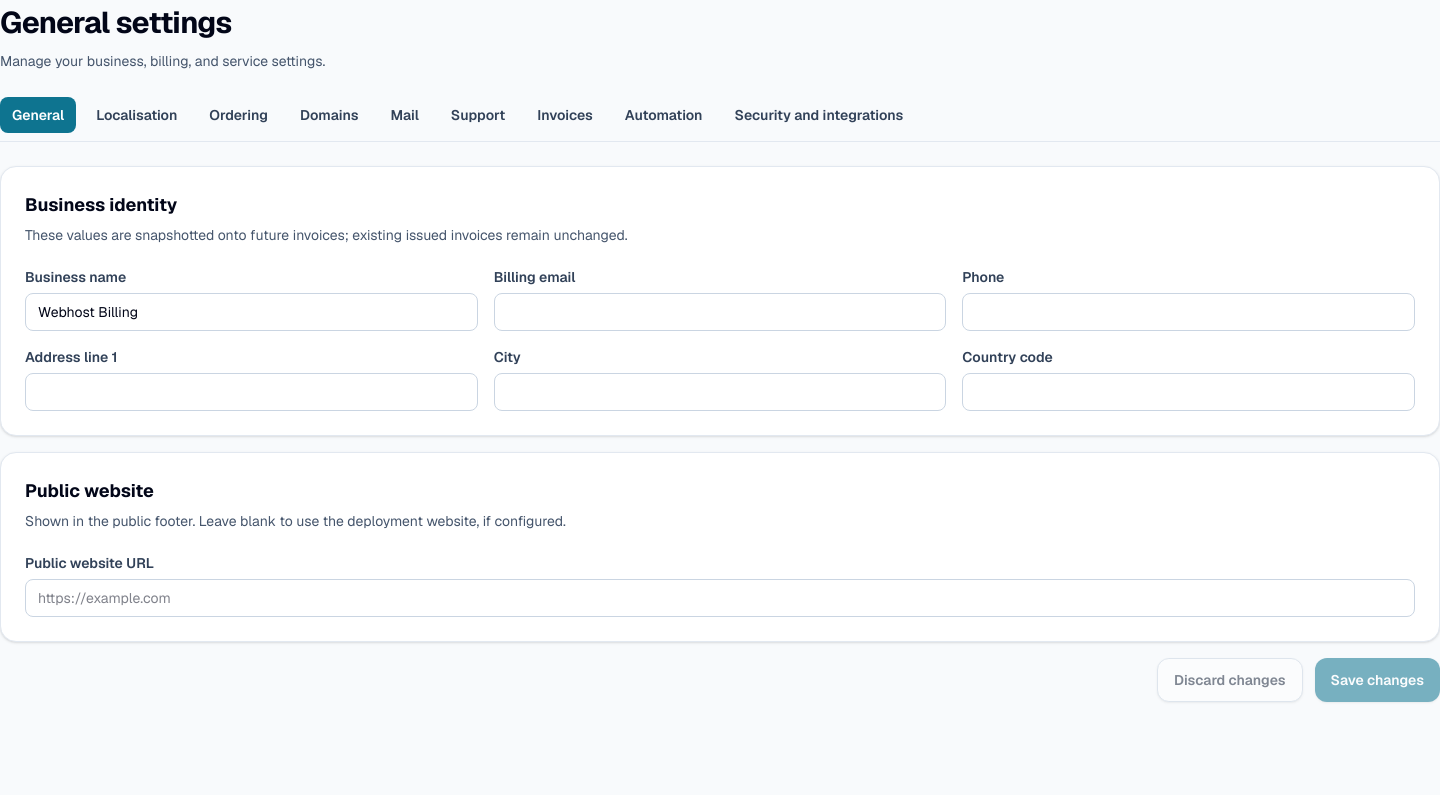
settings manager › reviews and confirms a change from saved false before updating the baseline
Click the tab "Invoices" at [565, 115], box x1=525 y1=97 x2=605 y2=133
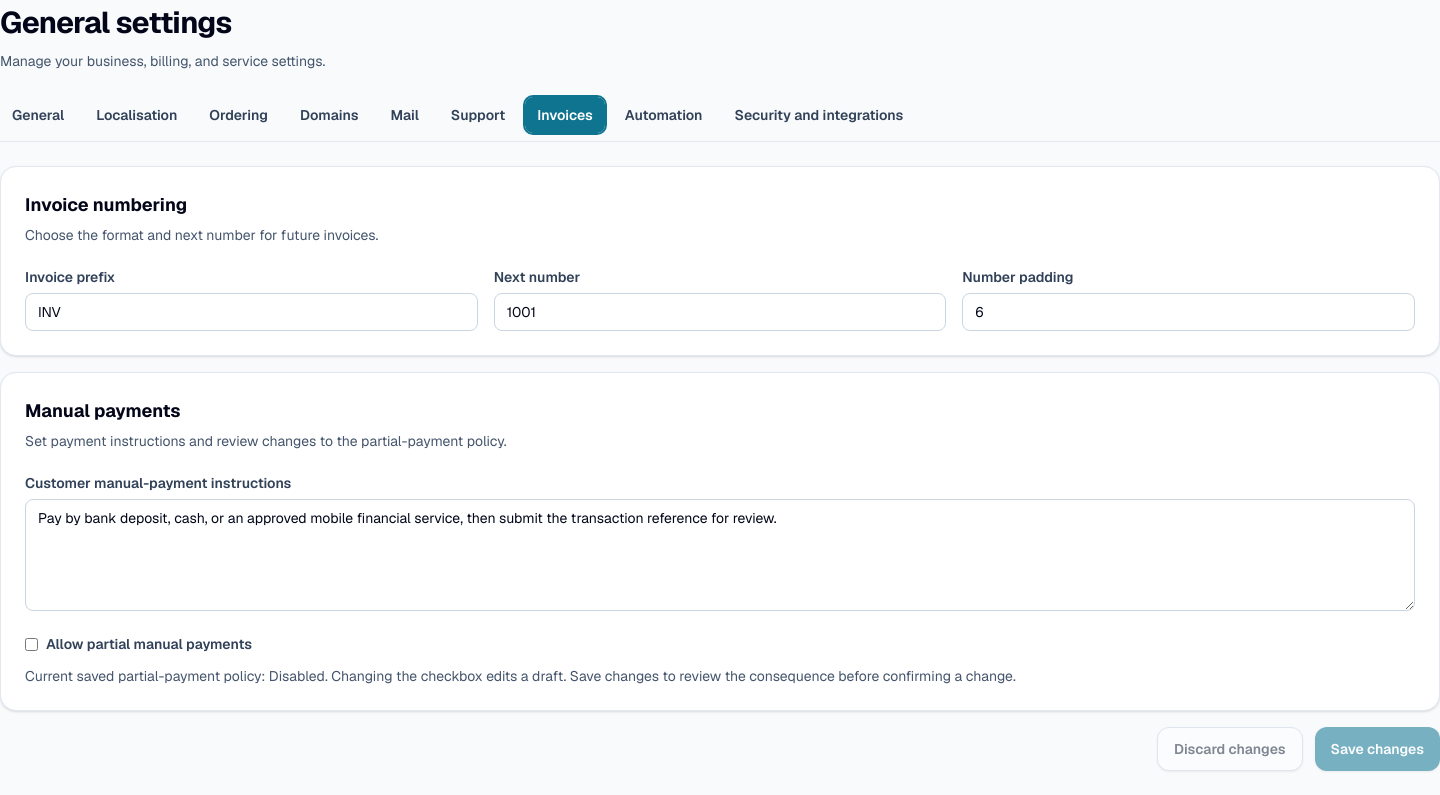
Click the checkbox labelled "Allow partial manual payments" at [32, 644], box x1=25 y1=638 x2=38 y2=650
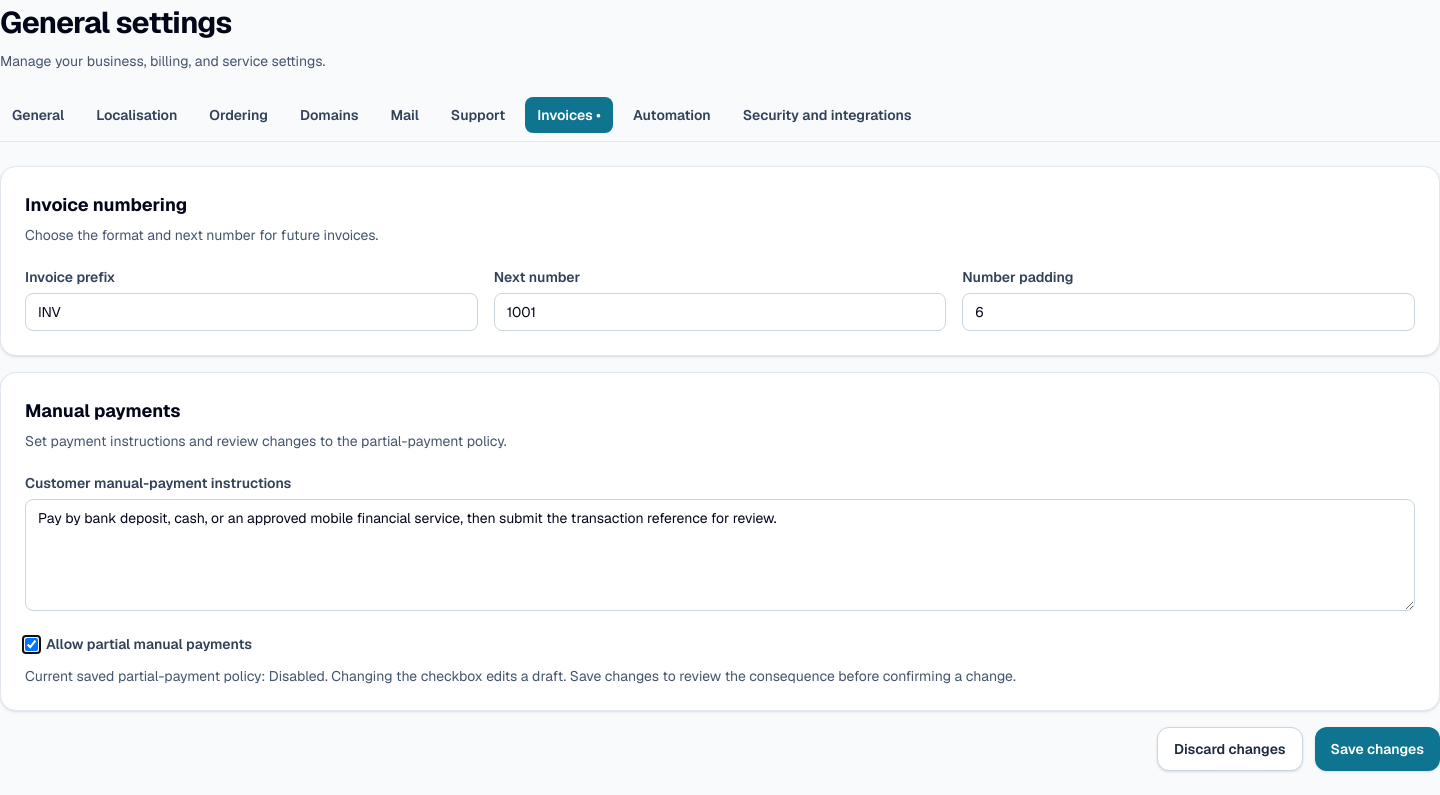
Click the button "Save changes" at [1377, 749], box x1=1314 y1=727 x2=1439 y2=771
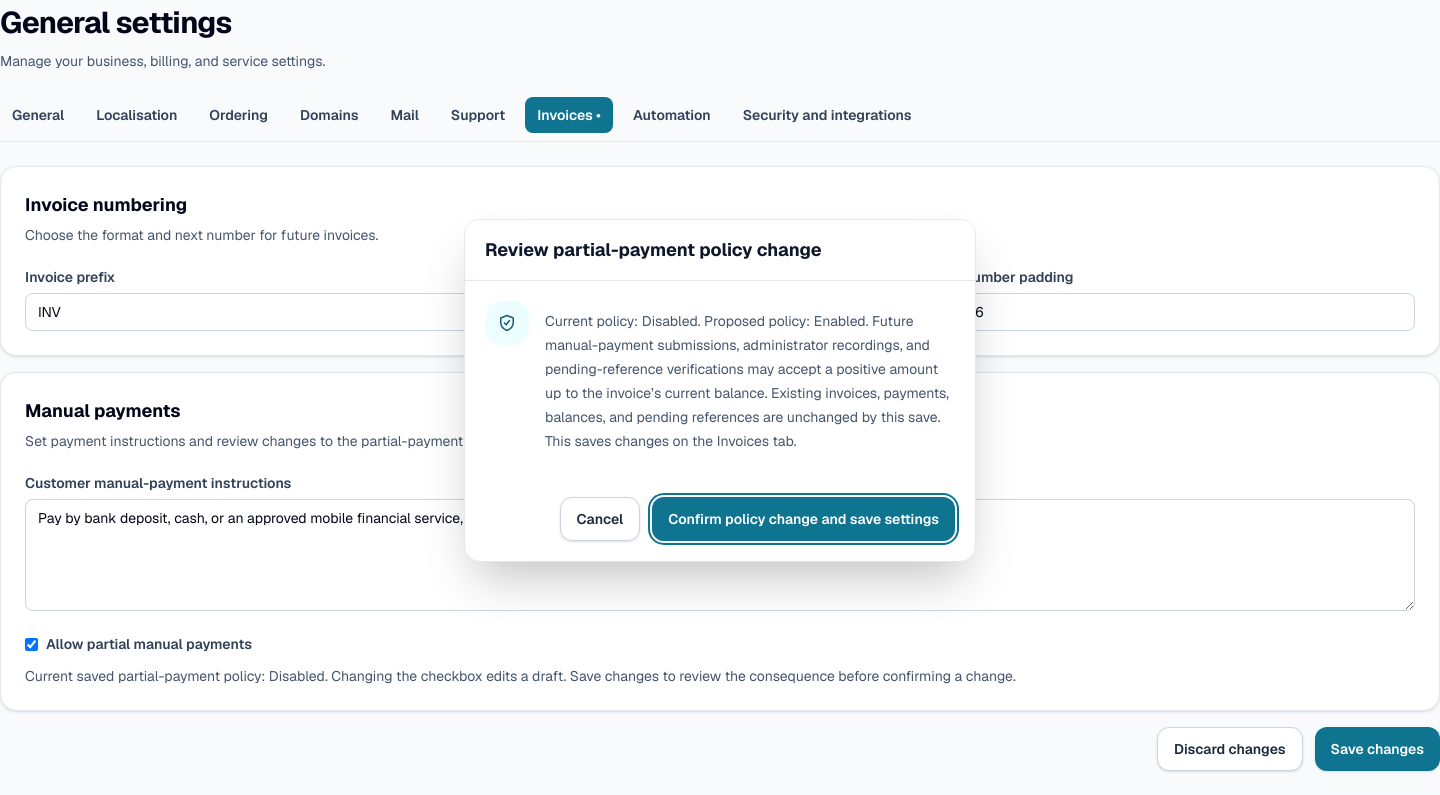
Expected: the dialog shows "pending-reference verifications", x1=545 y1=312 x2=949 y2=450
Expected: the dialog shows "positive amount up to", x1=545 y1=312 x2=949 y2=450
Expected: the dialog shows "Existing invoices, payments, balances, and pending references are unchanged", x1=545 y1=312 x2=949 y2=450
Click the button "Confirm policy change and save settings" at [804, 518], box x1=652 y1=496 x2=955 y2=540
(page scrolled)
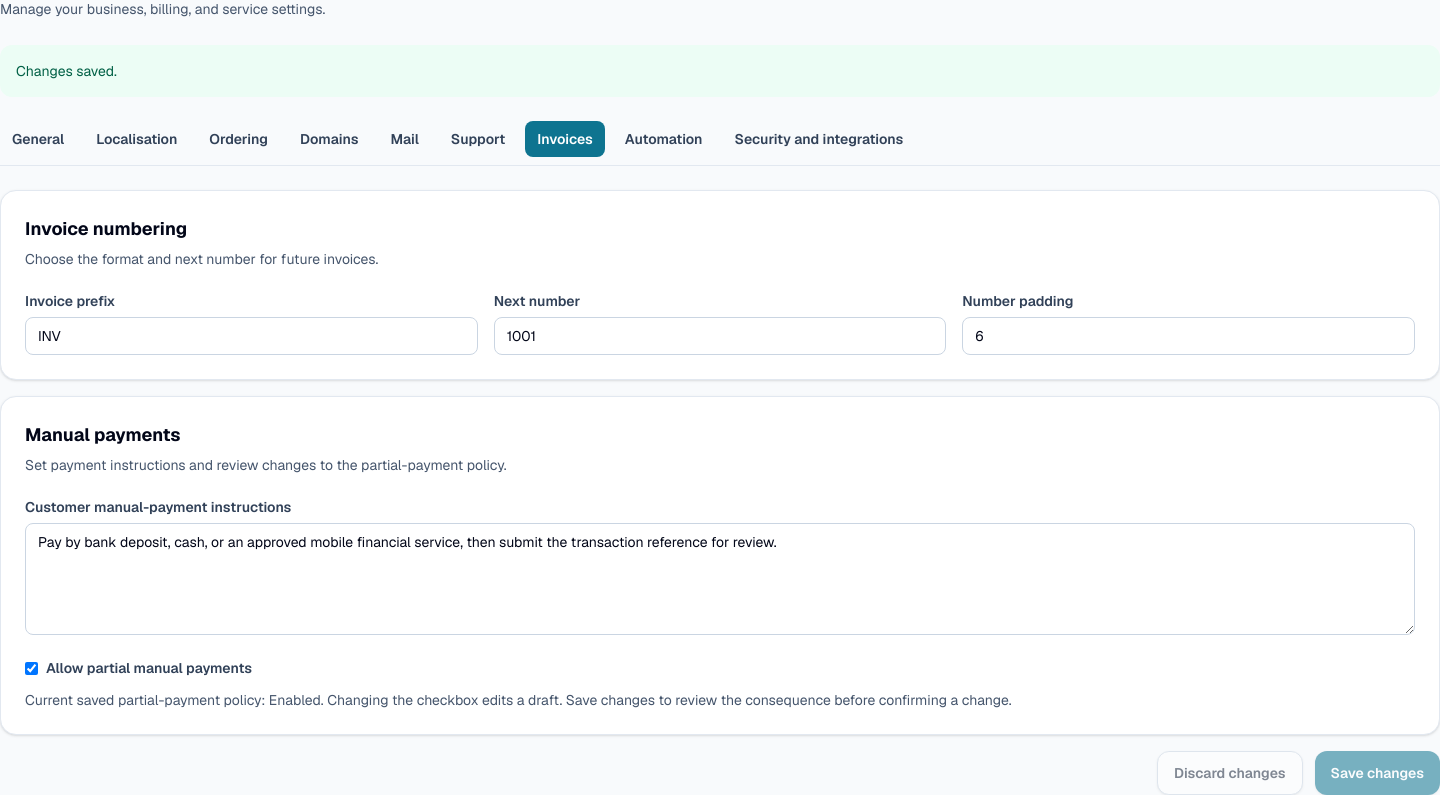
Expected: the message "Changes saved." is shown, x1=0 y1=45 x2=1439 y2=97
Expected: the dialog is gone
Expected: the button "Save changes" is disabled, x1=1314 y1=751 x2=1439 y2=794
